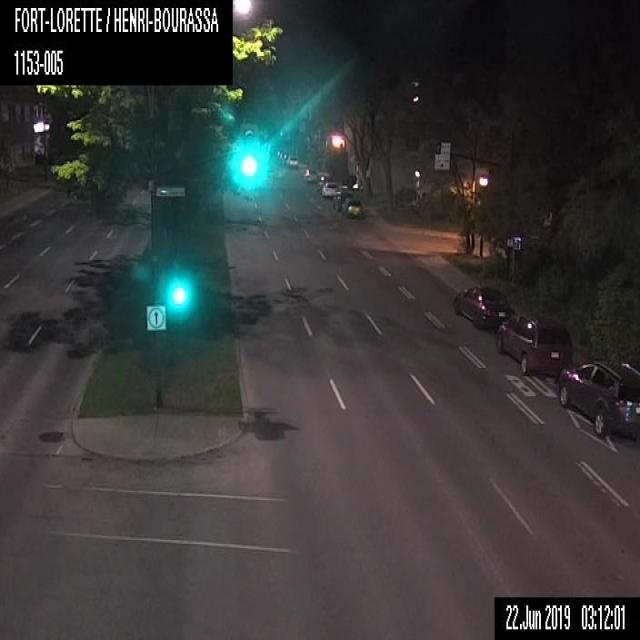vehicle: (558, 360, 639, 444), (494, 309, 576, 376), (453, 281, 515, 330), (340, 198, 364, 218), (333, 188, 354, 210), (321, 180, 339, 196), (304, 168, 318, 180), (286, 154, 297, 168)
